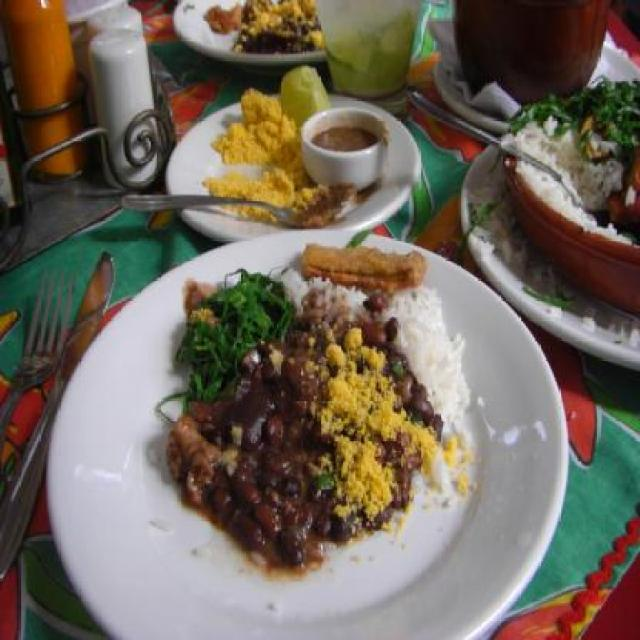Juice: (318, 6, 436, 103)
